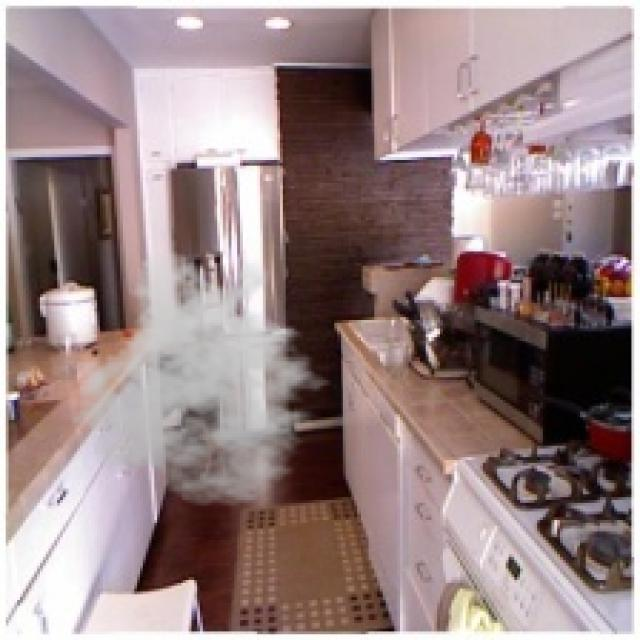smoke: (68, 248, 346, 508)
